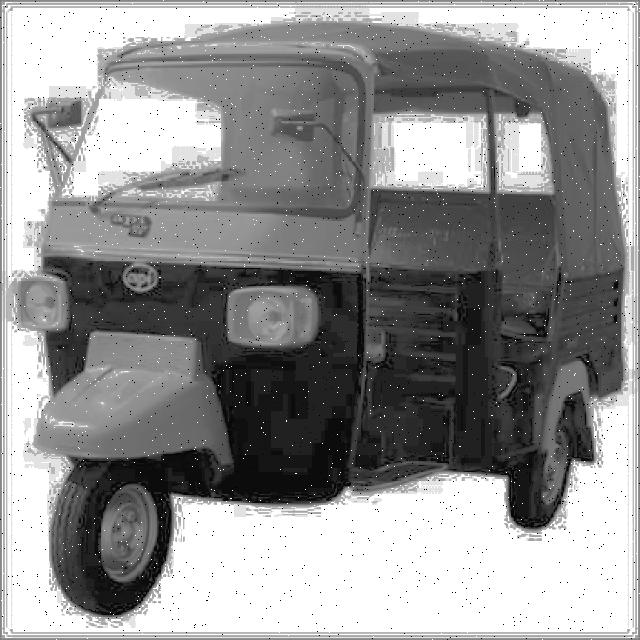Auto-Rickshaw: (11, 10, 625, 628)
